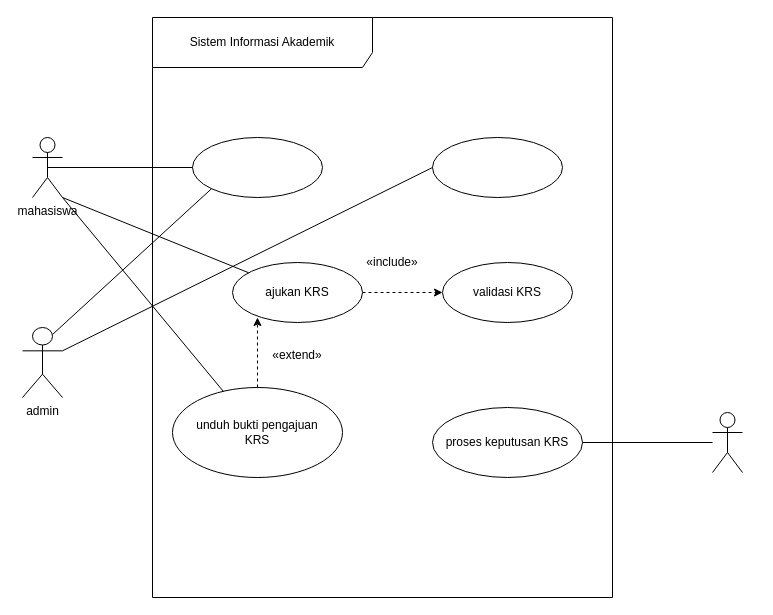
Image size: 773x615. Some labels were removed from this diagram. Here are the shapes that lost their labels. From the top down, the centre of each, then its label:
At (257,167): "lihat jawal kuliah".
At (497,167): "kelola jadwal kuliah".
At (727,442): "dosen wali".
